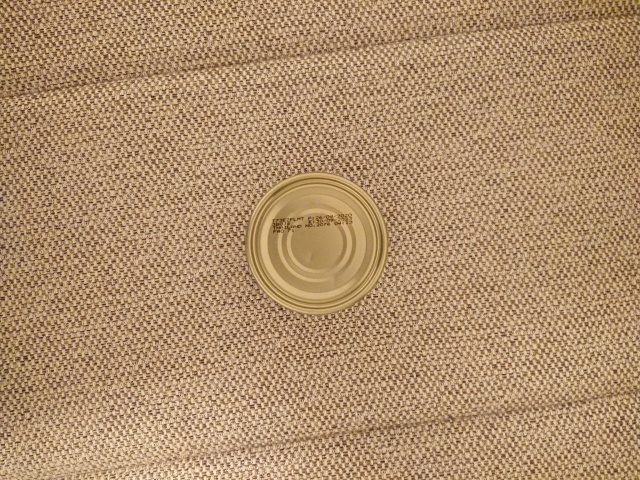Giana Tuna Salad Mexico 185g: (240, 167, 393, 321)
